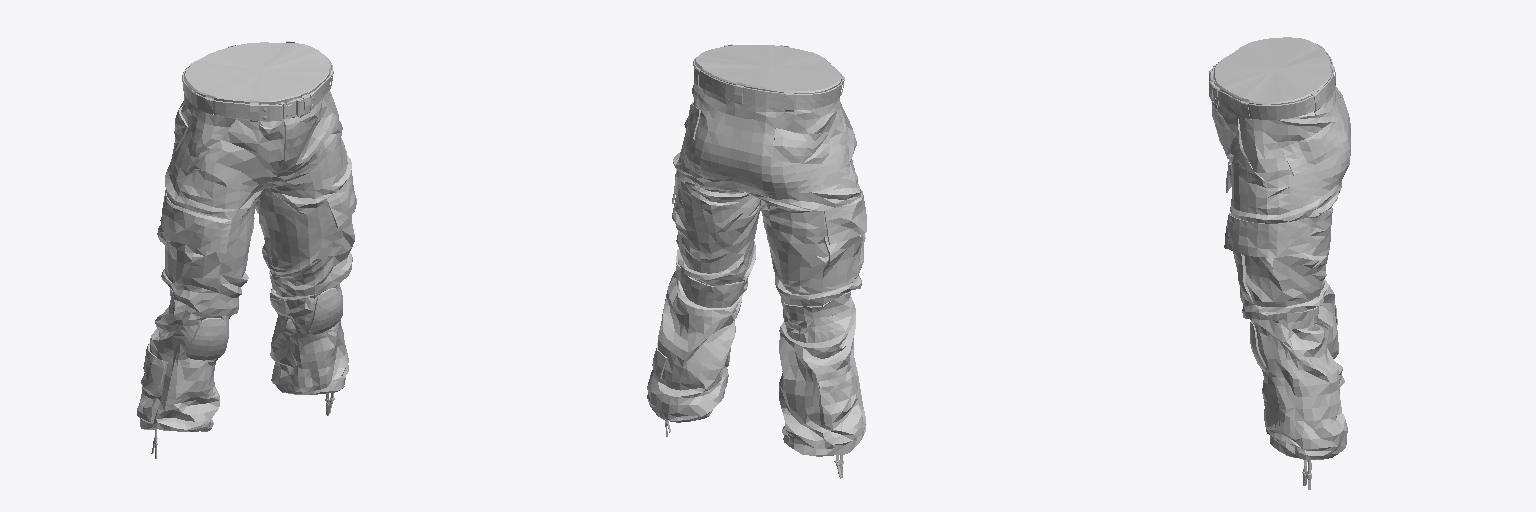
Rendered from user3.obj.
3 renders of one model, left to right at view 1: azimuth 30°, elevation 25°; view 2: azimuth 150°, elevation 25°; view 3: azimuth 270°, elevation 25°, orthographic.
Parts seen in each view (by area): view 1: model_3; view 2: model_3; view 3: model_3.
Part boxes in pixels (x1,y1,x2,y2): model_3: (137,41,356,458); model_3: (647,44,866,478); model_3: (1209,37,1350,489).
Size of the model in its own units: 51.92 by 92.63 by 31.23.